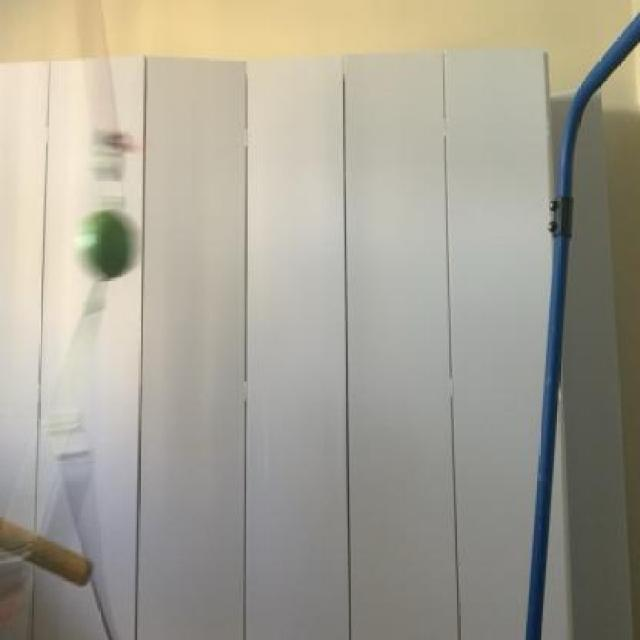baseball: (69, 205, 134, 290)
